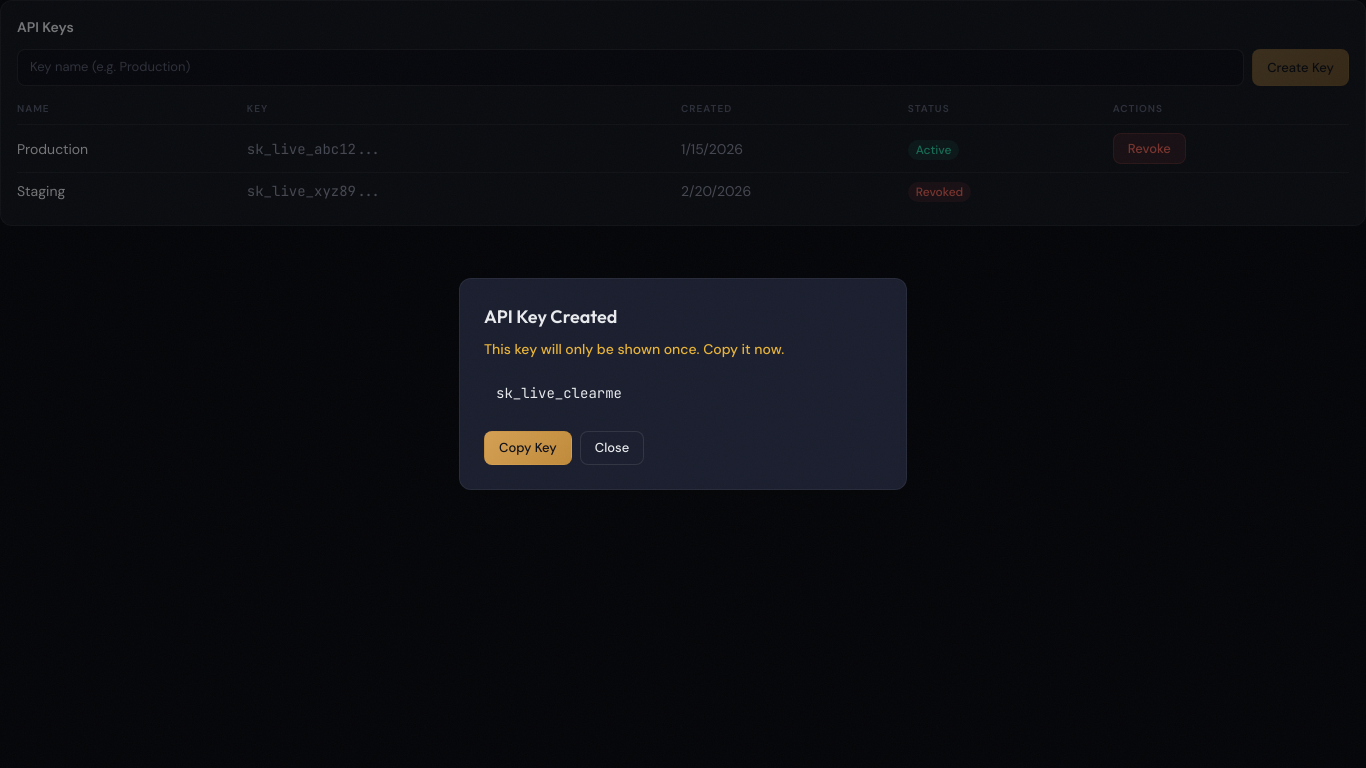
Scenario: ApiKeysCard › closing the modal clears the rawKey from state
This screenshot has width=1366, height=768.
Expected: the text "sk_live_clearme" is shown, [484,371,882,415]
Click the button "Close" at (612, 448), box [580,431,644,465]
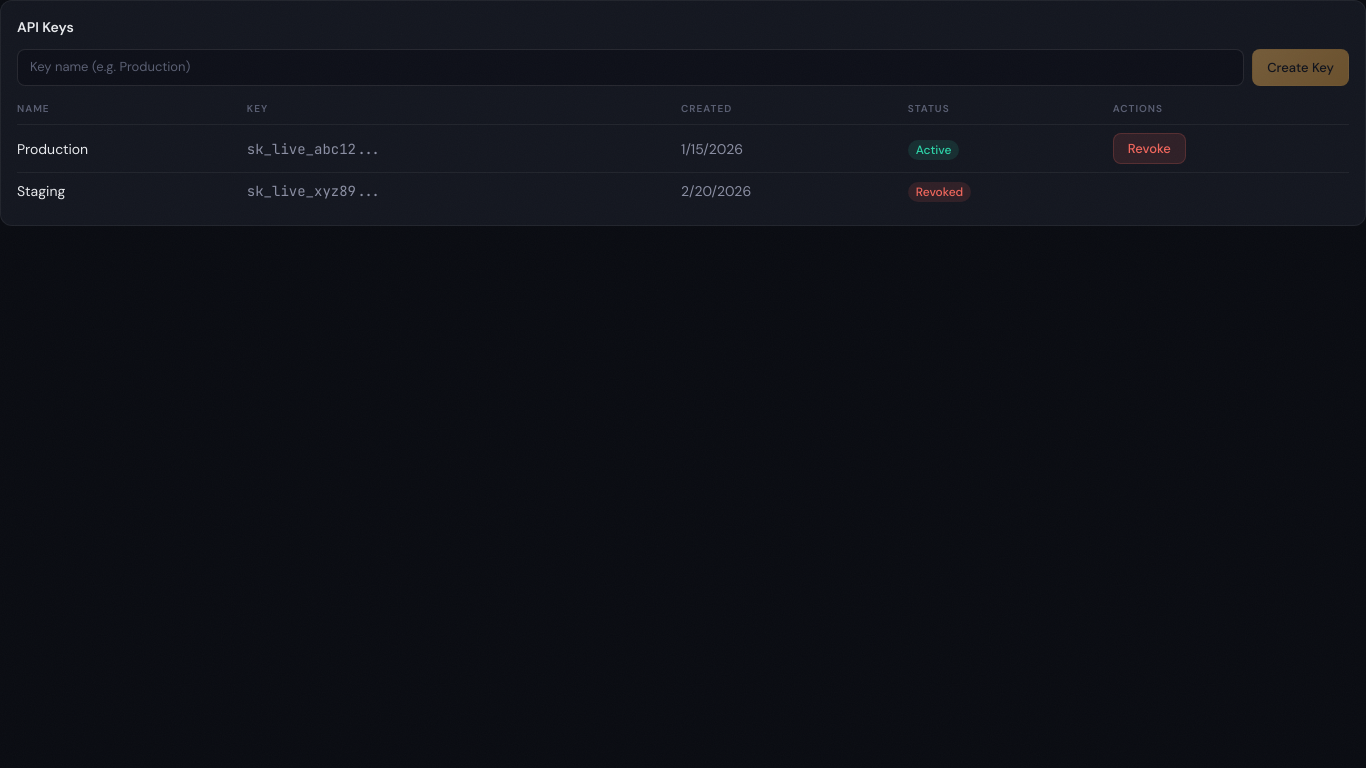
Expected: the text "sk_live_clearme" is gone
